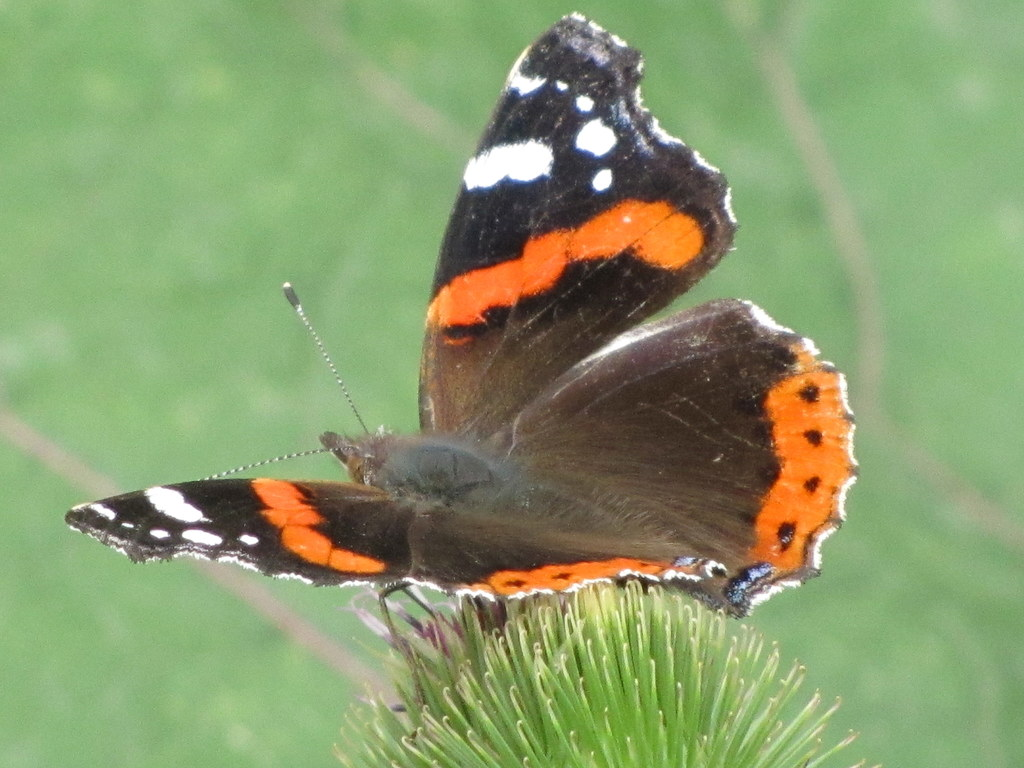Butterfly: (38, 1, 873, 648)
